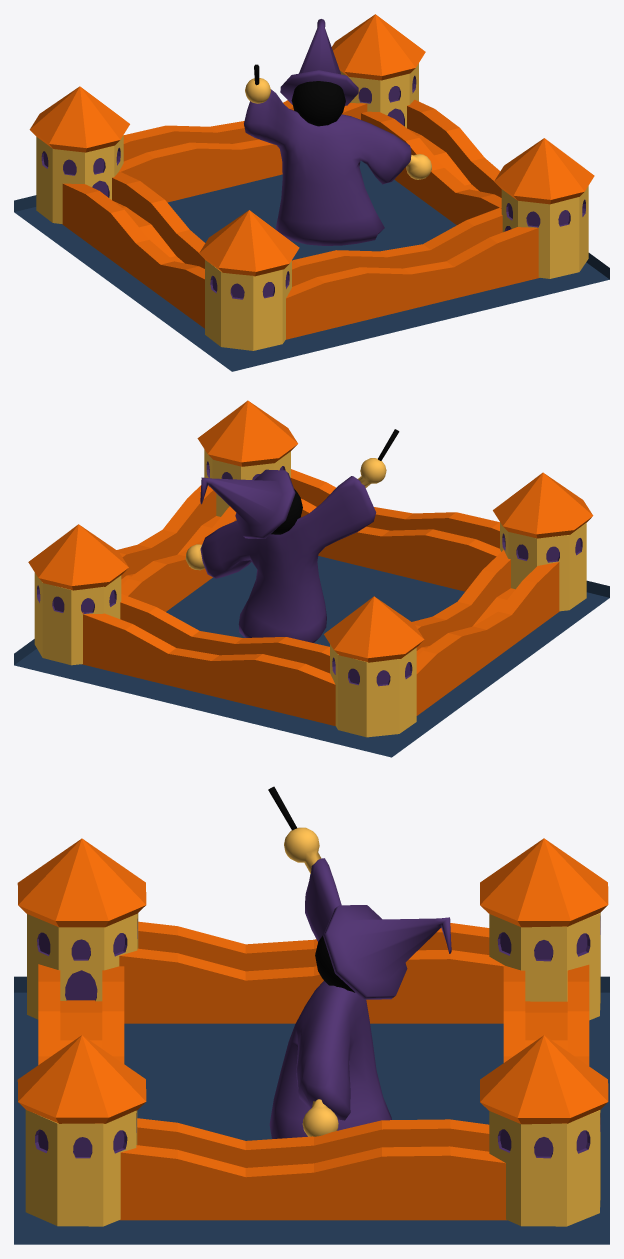
File: 3D_Fortezza.fbx
3 views of the same model, one above another, from view 1: azimuth 30°, elevation 25°; view 2: azimuth 150°, elevation 25°; view 3: azimuth 270°, elevation 25° (orthographic). The views are drawn at different scales.
Parts seen in each view (by area): view 1: Ponti, Plane, Vestiti, Tetto, Base, Porteefinestre, Testa, Mani; view 2: Ponti, Plane, Vestiti, Tetto, Base, Porteefinestre, Mani, Testa; view 3: Ponti, Plane, Tetto, Base, Vestiti, Porteefinestre, Mani, Testa.
Part boxes in pixels (x1=…): Ponti: x1=62, y1=99, x2=539, y2=339; Plane: x1=14, y1=161, x2=609, y2=371; Vestiti: x1=244, y1=19, x2=411, y2=245; Tetto: x1=29, y1=14, x2=594, y2=276; Base: x1=36, y1=63, x2=588, y2=350; Porteefinestre: x1=41, y1=75, x2=585, y2=299; Testa: x1=291, y1=81, x2=345, y2=126; Mani: x1=245, y1=78, x2=431, y2=179; Ponti: x1=82, y1=469, x2=559, y2=725; Plane: x1=14, y1=556, x2=609, y2=757; Vestiti: x1=200, y1=469, x2=376, y2=642; Tetto: x1=28, y1=400, x2=593, y2=662; Base: x1=34, y1=449, x2=586, y2=737; Porteefinestre: x1=37, y1=461, x2=582, y2=686; Mani: x1=185, y1=458, x2=386, y2=570; Testa: x1=271, y1=488, x2=302, y2=534; Ponti: x1=38, y1=921, x2=589, y2=1220; Plane: x1=14, y1=976, x2=609, y2=1244; Tetto: x1=17, y1=838, x2=608, y2=1124; Base: x1=25, y1=913, x2=600, y2=1226; Vestiti: x1=269, y1=858, x2=451, y2=1138; Porteefinestre: x1=35, y1=916, x2=600, y2=1158; Mani: x1=284, y1=827, x2=338, y2=1136; Testa: x1=315, y1=934, x2=354, y2=992.
Bounding box in the file's own units: 599 × 322 × 599.
